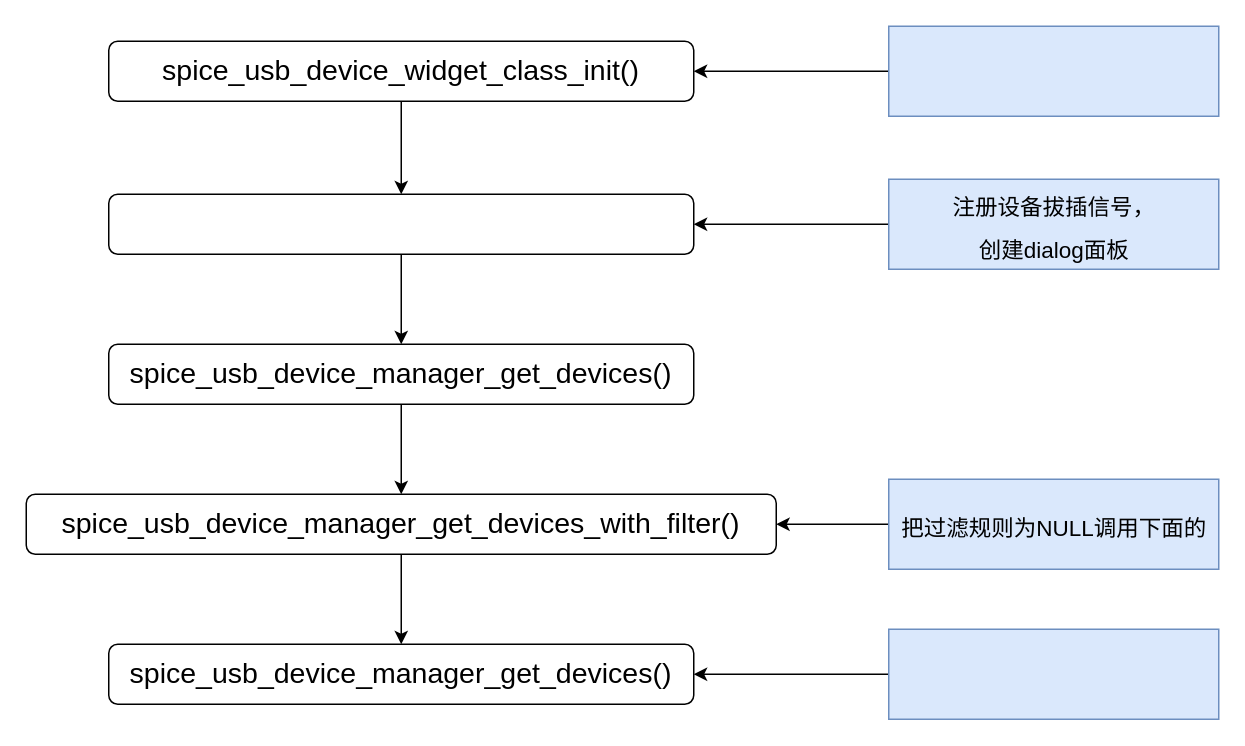
Some shapes in this 1245 by 746 pixel diagram are drawn without their labels. The centre of each missing label's shape, as x and y in pixels:
"spice_usb_device_widget_constructed()" goes at [400,223].
"类初始化的时候" goes at [1053,70].
"解析传入的过滤规则 调官方的usbredir设备过滤函数" goes at [1053,673].
